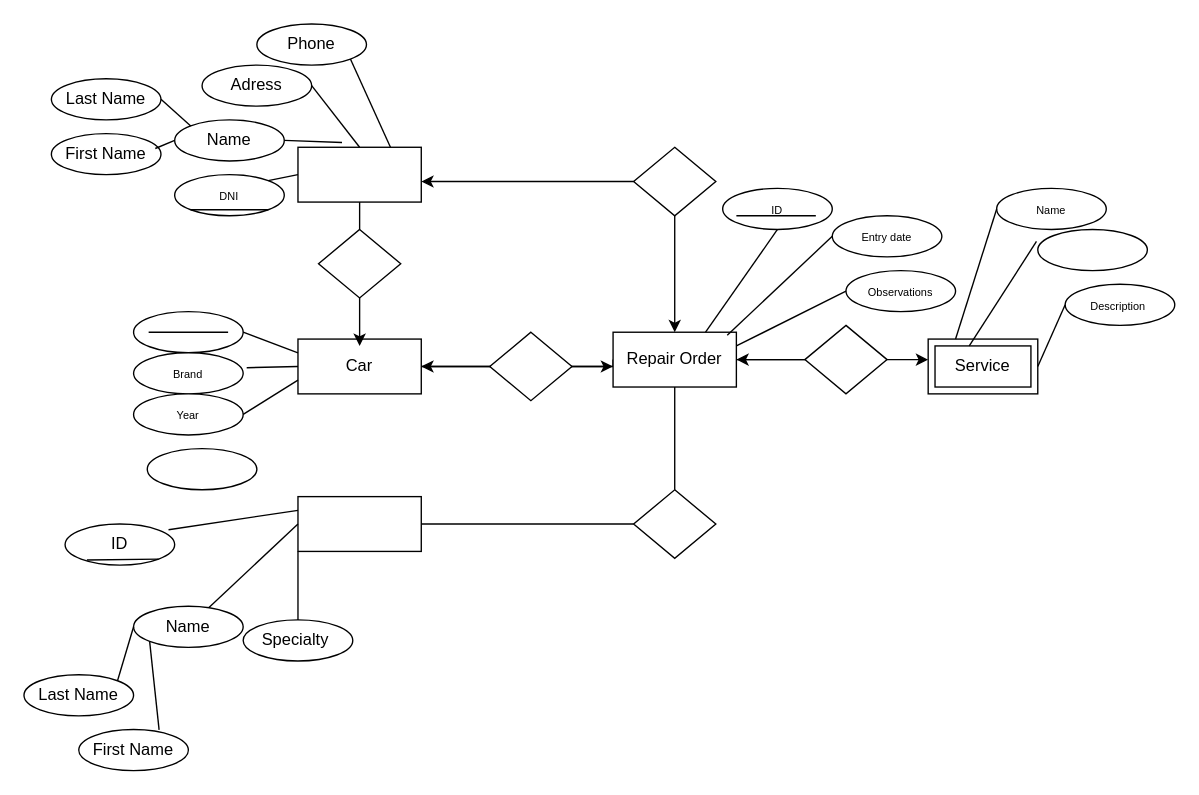
The diagram is 1199 pixels wide and 795 high, and some of its shapes have lost their labels. The shapes that lost their labels are listed below. From the top down, each one's centre as x and y in pixels, then its label:
the point at 359,174: Customer
the point at 674,181: Pay
the point at 359,263: Owners
the point at 1091,249: Cost
the point at 187,331: LIcence plate (Primary Key)
the point at 530,366: Reparation
the point at 845,359: Part of
the point at 201,468: Model
the point at 359,523: Mechanics
the point at 674,523: Worked by
